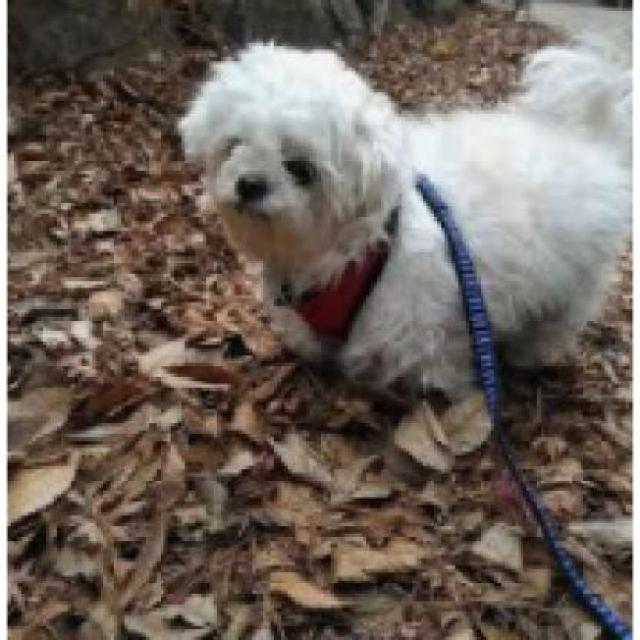Dog: (174, 26, 628, 408)
